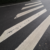others: (1, 1, 37, 50)
